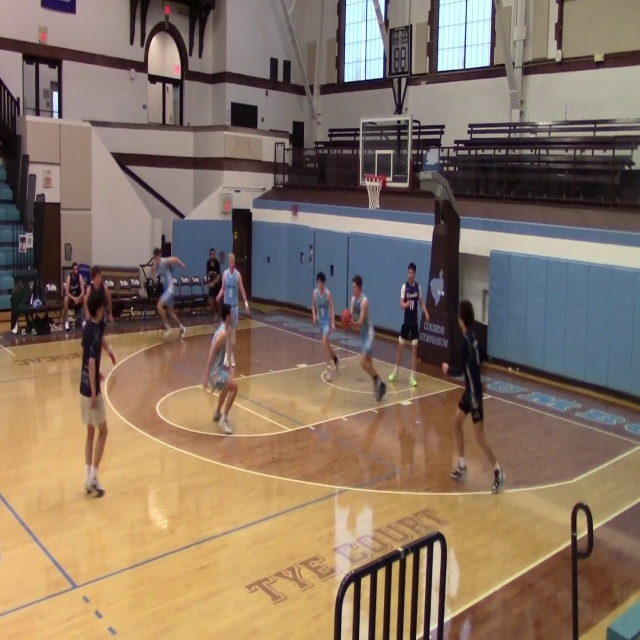Basketball: (341, 309, 351, 329), (163, 5, 171, 14), (388, 373, 396, 381)
